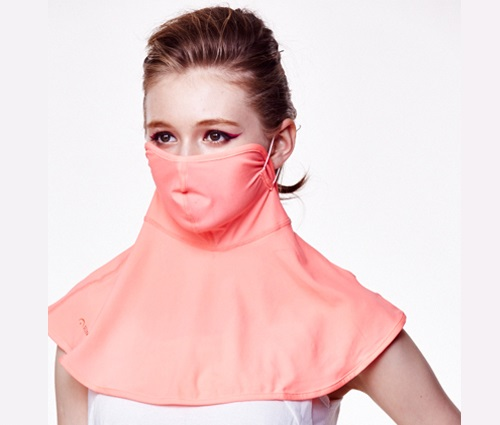face_mask: (144, 67, 267, 230)
